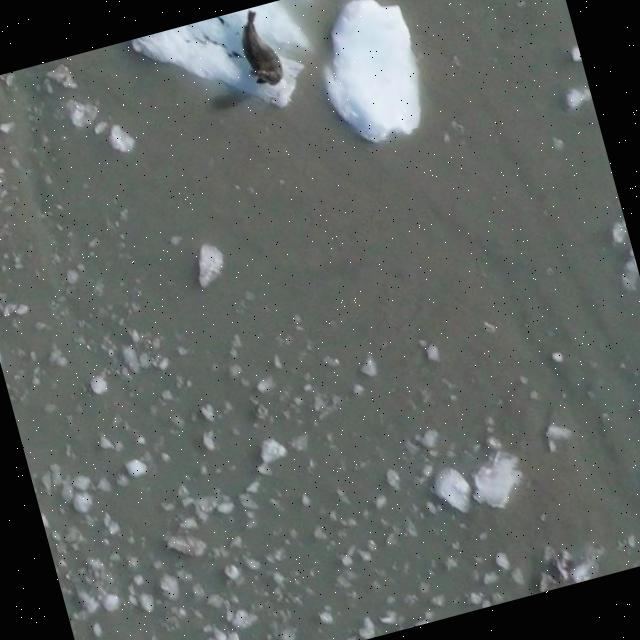seal: (229, 5, 287, 92)
